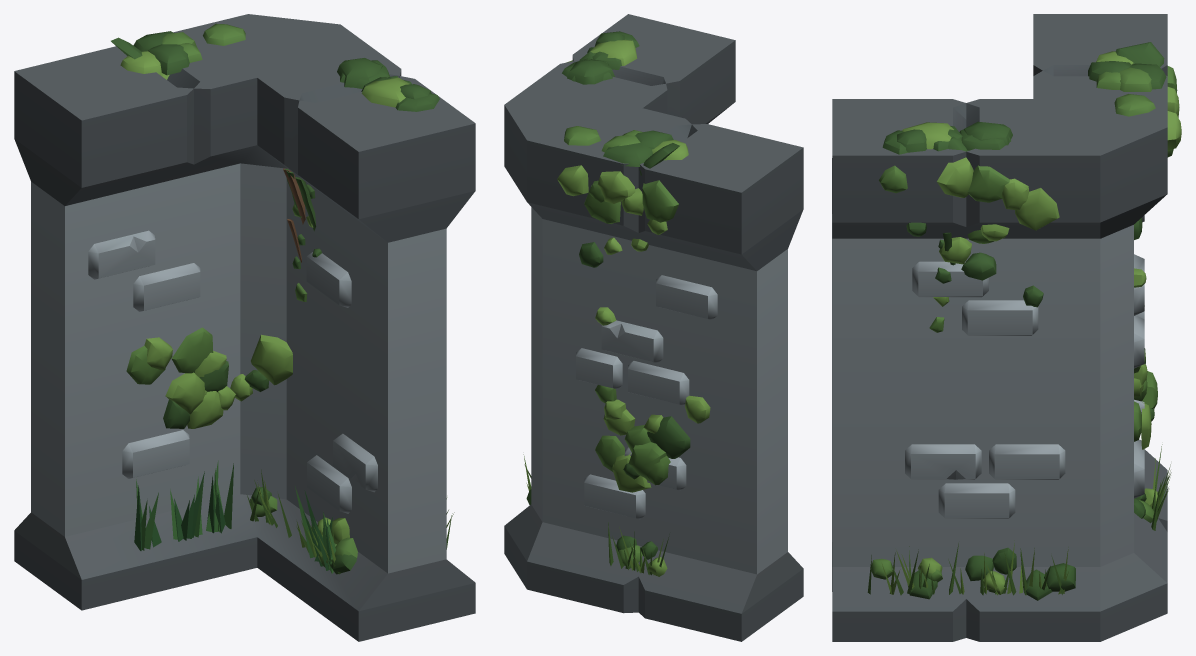
File: wall_mossy_corner_A.glb
The picture shows the model from 3 angles, left to right: view 1: azimuth 30°, elevation 25°; view 2: azimuth 150°, elevation 25°; view 3: azimuth 270°, elevation 25°; orthographic projection. The views are drawn at different scales.
Parts seen in each view (by area): view 1: Item; view 2: Item; view 3: Item.
Part boxes in pixels (x1=…): Item: x1=14, y1=14, x2=475, y2=641; Item: x1=504, y1=14, x2=803, y2=641; Item: x1=832, y1=14, x2=1181, y2=641.
Bounding box in the file's own units: 2.61 × 4.14 × 2.61.
3 materials, 3 textured.
